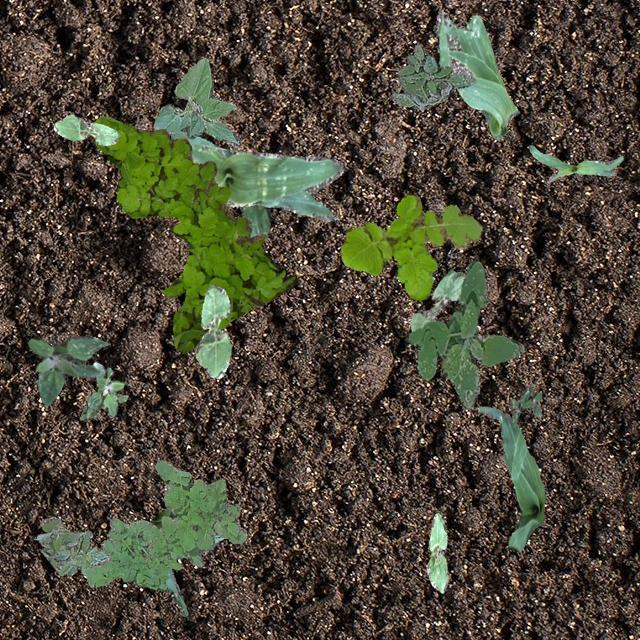crop: (170, 130, 342, 220), (436, 8, 516, 138), (477, 406, 542, 550), (148, 508, 222, 616), (153, 56, 240, 144), (528, 144, 622, 182), (194, 284, 230, 378), (410, 270, 464, 330), (53, 114, 119, 144), (426, 512, 448, 592), (238, 202, 270, 236)
weed: (94, 115, 296, 352), (82, 458, 245, 590), (408, 260, 522, 408), (339, 193, 482, 300), (28, 334, 108, 406), (390, 42, 474, 108), (34, 516, 106, 574), (78, 362, 126, 419), (508, 386, 540, 420)
